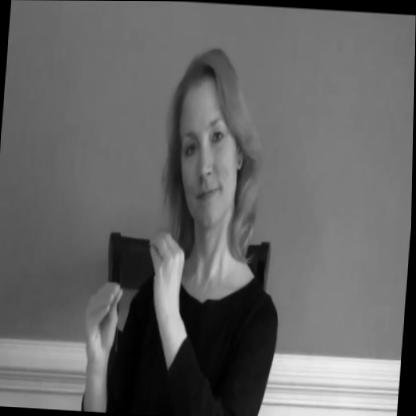Fix: (77, 219, 188, 376)
